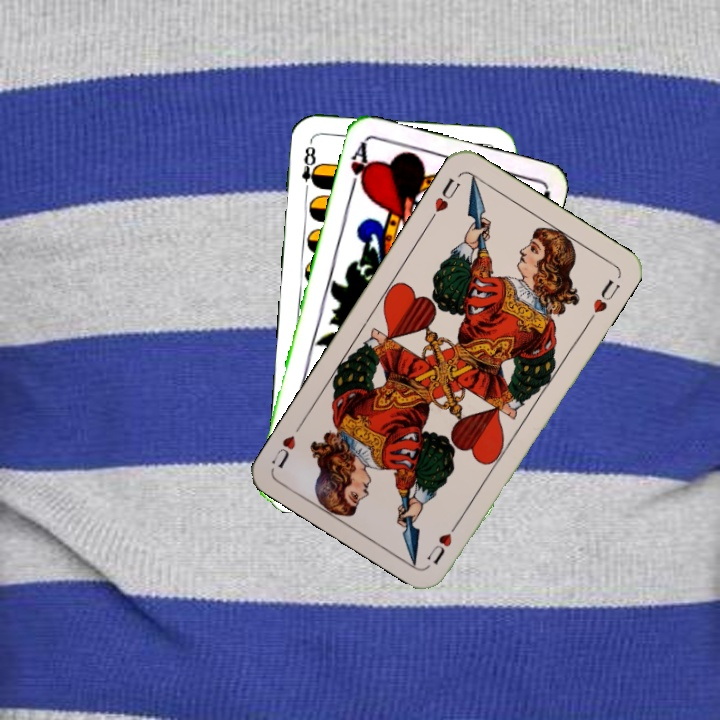E8: (298, 138, 322, 197)
HA: (345, 138, 374, 197)
HU: (422, 515, 464, 567), (425, 173, 463, 224)
